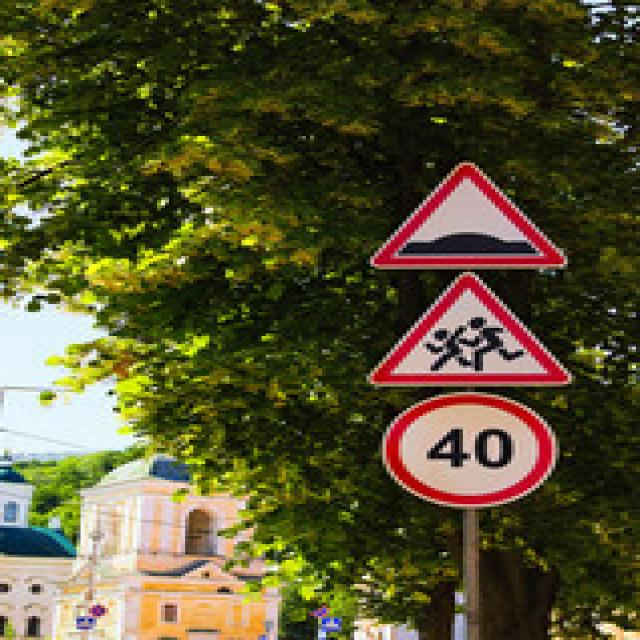hump: (365, 156, 571, 278)
speed limit 40: (381, 392, 572, 512)
